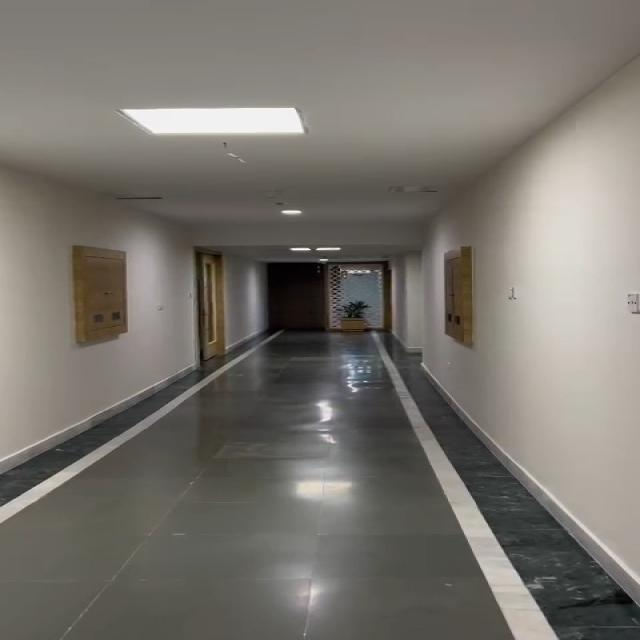door: (185, 249, 227, 361)
floor: (18, 446, 640, 640), (226, 340, 417, 448)
furniture: (325, 293, 384, 343)
wall: (484, 148, 640, 455), (0, 176, 73, 437), (134, 220, 189, 368), (395, 259, 442, 351), (225, 252, 271, 328)
